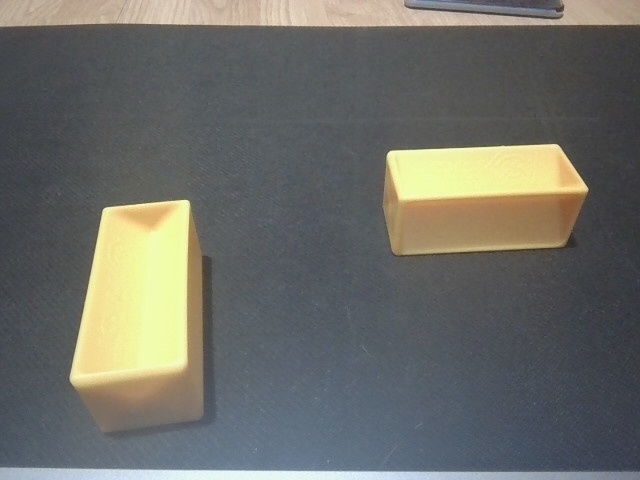YellowSample: (65, 195, 210, 435), (378, 140, 593, 256)
